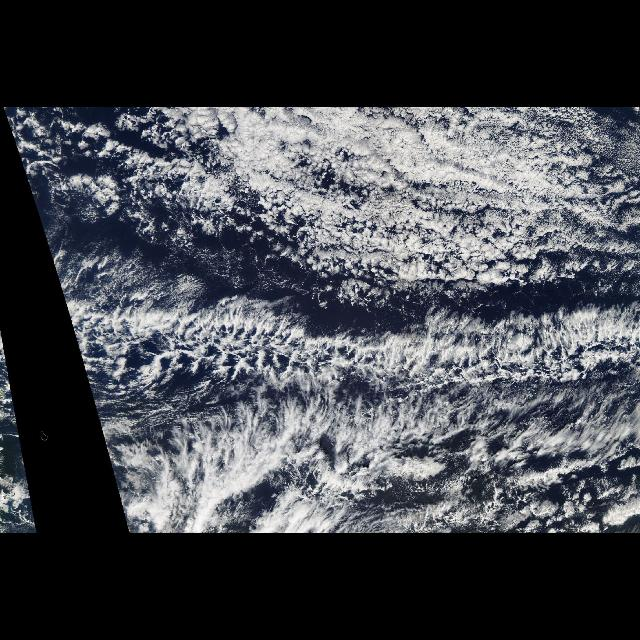Fish: (51, 260, 640, 524)
Flower: (46, 247, 640, 405)
